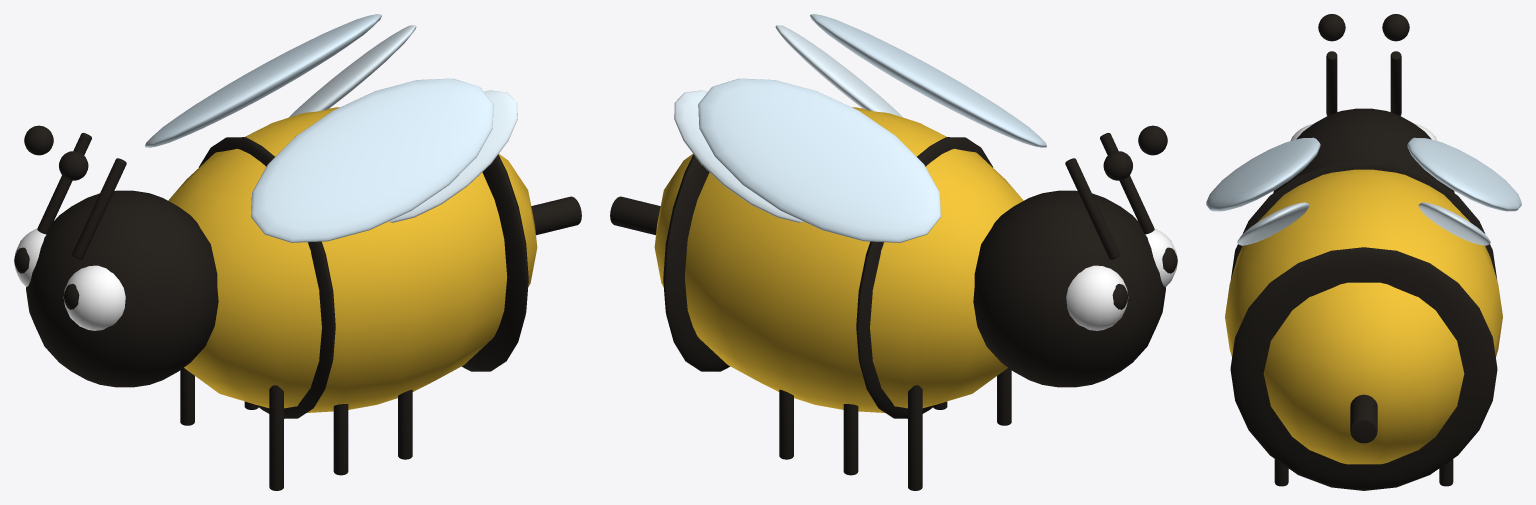
The model's file is bee.glb.
3 views of the same model, side by side, from view 1: azimuth 30°, elevation 25°; view 2: azimuth 150°, elevation 25°; view 3: azimuth 270°, elevation 25° (orthographic). The views are drawn at different scales.
Visible parts, largest first — view 1: bee; view 2: bee; view 3: bee.
Part boxes in pixels (<box>): bee: <box>14,14,581,490</box>; bee: <box>610,14,1177,490</box>; bee: <box>1206,14,1521,490</box>.
Bounding box in the file's own units: 1.25 × 0.808 × 0.6902.
